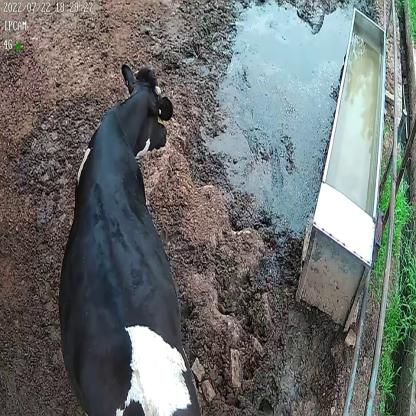cow: (58, 62, 204, 416)
